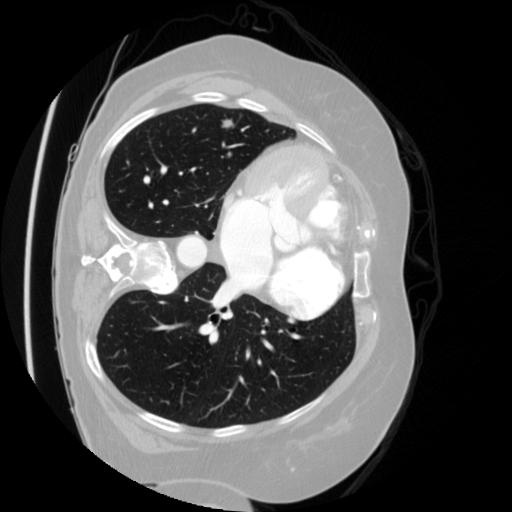nodule: (220, 116, 238, 134)
